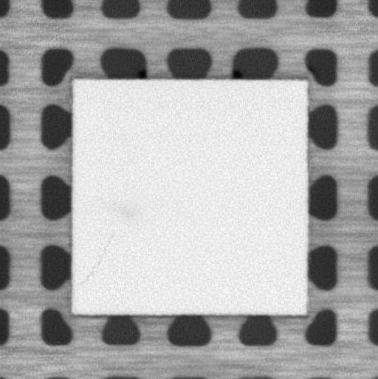DIE_CRACK: (77, 234, 117, 286)
